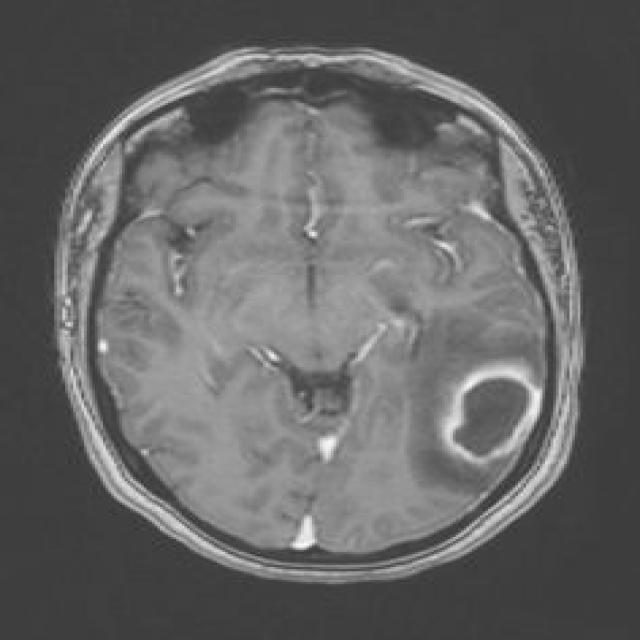Tumor-Cell: (450, 358, 531, 460)
